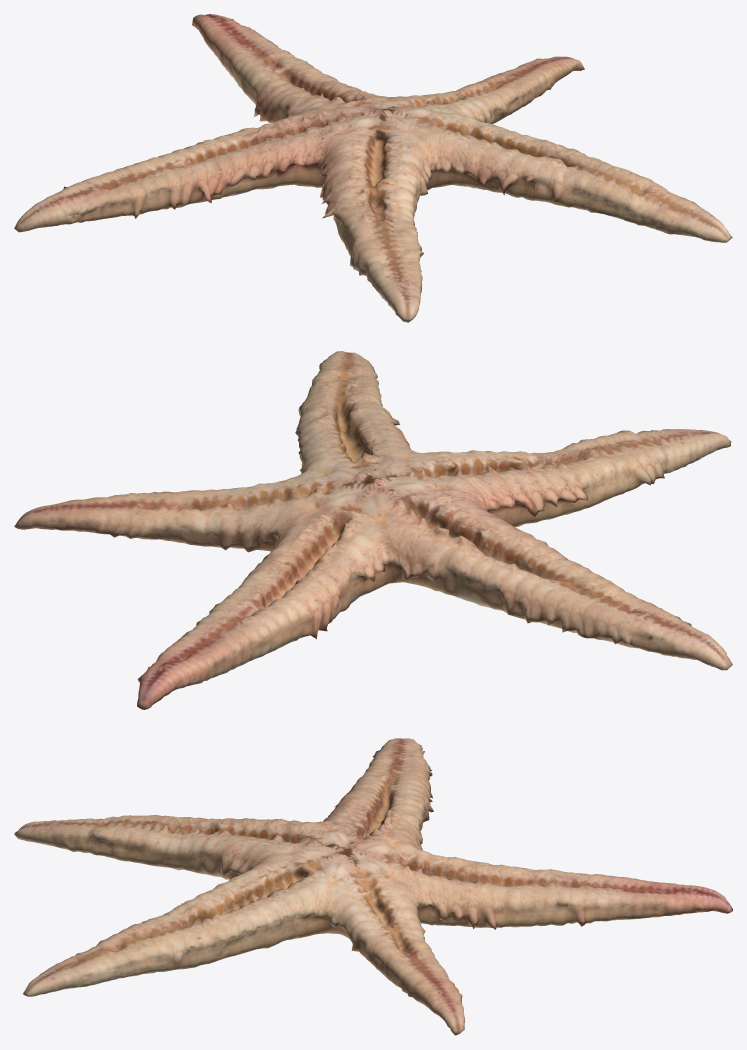
The model's file is shell1.obj.
The picture shows the model from 3 angles, top to bottom: view 1: azimuth 30°, elevation 25°; view 2: azimuth 150°, elevation 25°; view 3: azimuth 270°, elevation 25°; orthographic projection. The views are drawn at different scales.
Visible parts, largest first — view 1: Obj3d66_1597506_9_56; view 2: Obj3d66_1597506_9_56; view 3: Obj3d66_1597506_9_56.
Part boxes in pixels (x1=…): Obj3d66_1597506_9_56: x1=14, y1=14, x2=732, y2=322; Obj3d66_1597506_9_56: x1=14, y1=351, x2=732, y2=709; Obj3d66_1597506_9_56: x1=14, y1=738, x2=732, y2=1035.
Size of the model in its own units: 46.91 by 5.15 by 49.38.
Materials: 1 (1 with a texture image).
